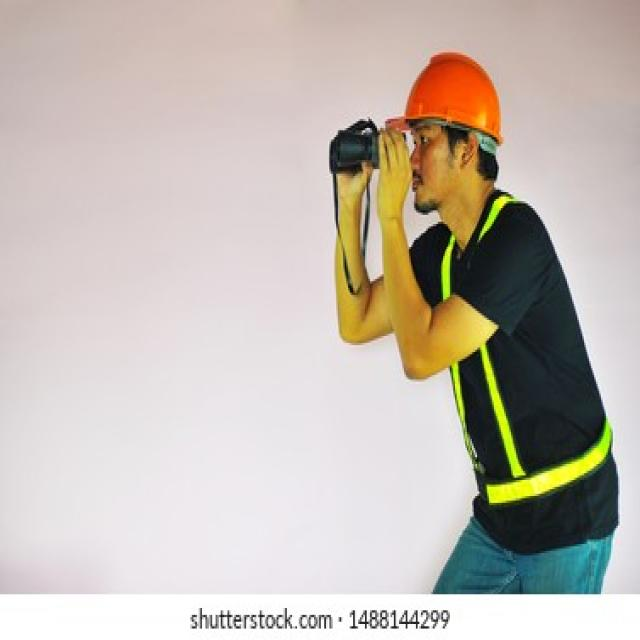helmet: (390, 41, 512, 160)
no-goggles: (391, 120, 487, 168)
vest: (431, 185, 618, 502)
